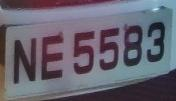3: (145, 16, 168, 69)
5: (70, 23, 99, 78), (96, 22, 122, 75)
8: (121, 20, 145, 71)
E: (36, 29, 68, 85)
N: (11, 32, 41, 91)
